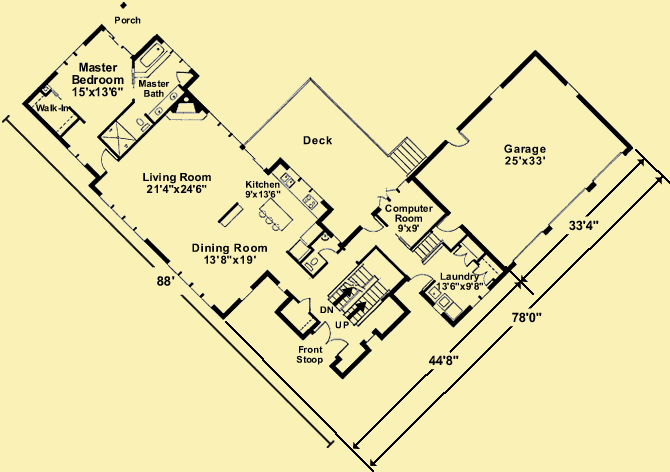door: (314, 321, 351, 359), (444, 125, 471, 150), (94, 147, 119, 174), (406, 273, 436, 295), (360, 211, 384, 237), (473, 264, 494, 287), (454, 245, 474, 268), (437, 213, 459, 233), (316, 247, 338, 266), (297, 295, 316, 315), (172, 68, 193, 82)
kitchen bar: (258, 196, 295, 234)
large sink: (135, 114, 153, 134), (302, 256, 322, 274)
small sink: (148, 85, 185, 122)
stairs: (326, 264, 391, 330), (390, 134, 430, 179), (412, 229, 446, 266), (54, 42, 85, 74), (69, 143, 95, 172)
tub: (138, 41, 167, 69)
windows: (167, 258, 220, 310), (95, 192, 148, 243), (207, 107, 243, 154), (56, 40, 87, 74), (63, 145, 88, 168), (488, 82, 507, 104), (236, 285, 256, 304), (563, 78, 580, 99)
